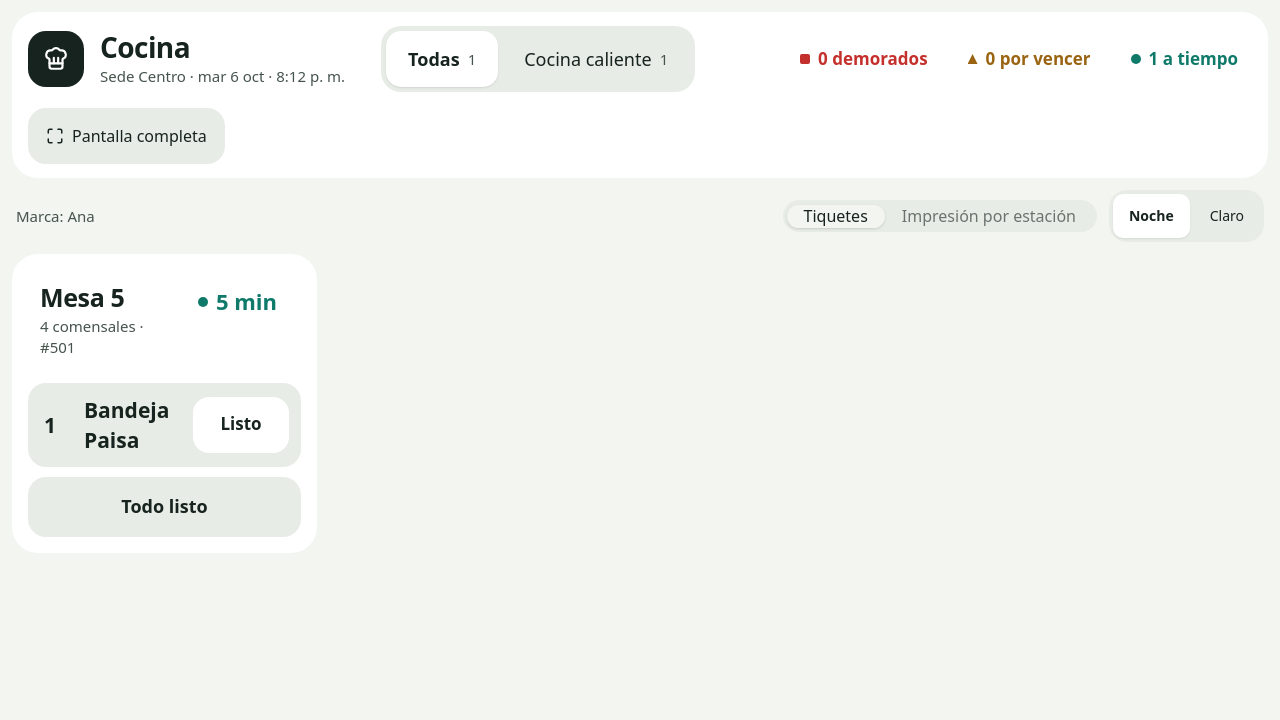
Scenario: KdsPage › «Pantalla completa» pone la estación encima del marco del POS y lo recuerda
Click the button "Pantalla completa" at {"x": 126, "y": 136}, box top-left (28, 108), bottom-right (225, 164)
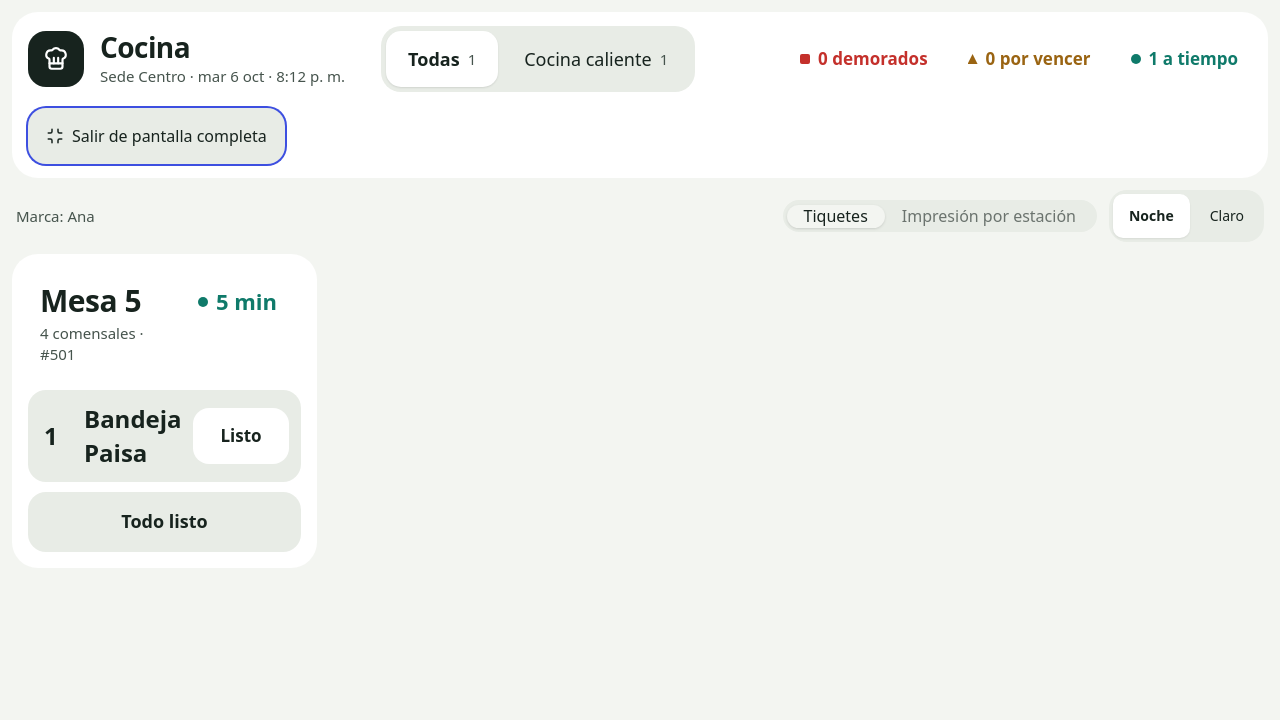
Expected: the element with class "kds-completa" is shown
Expected: the button "Salir de pantalla completa" is shown, top-left (28, 108), bottom-right (285, 164)
